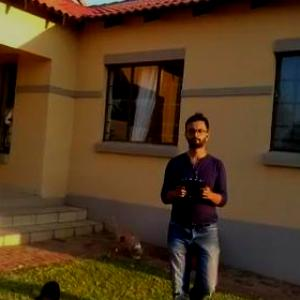follow: (148, 109, 229, 299)
null: (104, 209, 147, 263), (28, 277, 63, 299)
